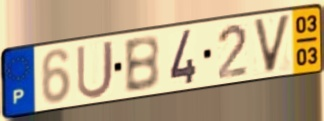2: (215, 22, 250, 81)
4: (167, 27, 198, 88)
6: (39, 45, 73, 108)
B: (122, 33, 162, 95)
U: (75, 37, 116, 101)
V: (250, 12, 293, 76)
